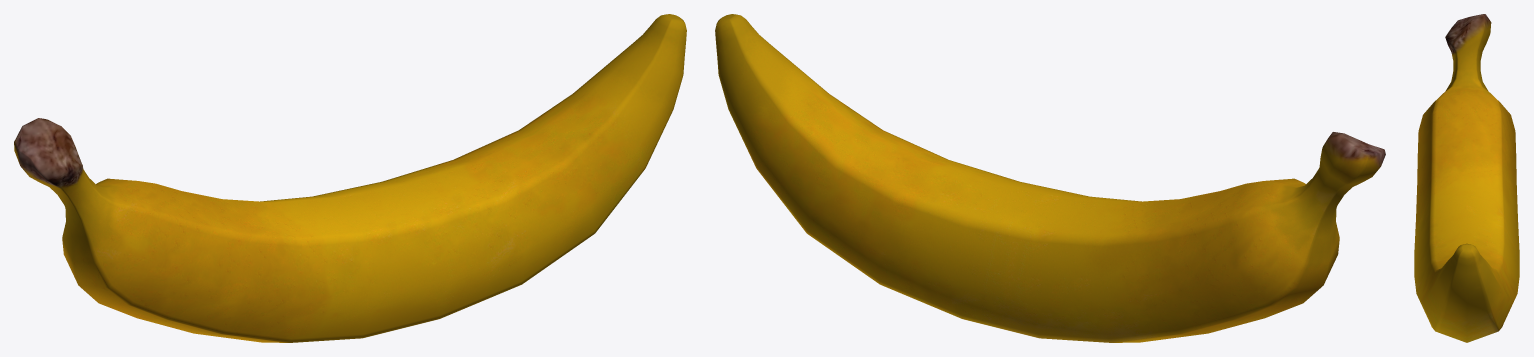
The model's file is banana.obj.
3 renders of one model, left to right at view 1: azimuth 30°, elevation 25°; view 2: azimuth 150°, elevation 25°; view 3: azimuth 270°, elevation 25°, orthographic. The views are drawn at different scales.
Parts seen in each view (by area): view 1: Куб.004; view 2: Куб.004; view 3: Куб.004.
Boxes of the visible parts, bbox=[...] form: Куб.004: bbox=[14, 14, 686, 342]; Куб.004: bbox=[715, 14, 1385, 342]; Куб.004: bbox=[1414, 14, 1519, 342].
Size of the model in its own units: 6.2 by 2.5 by 1.27.
1 material, 1 textured.
